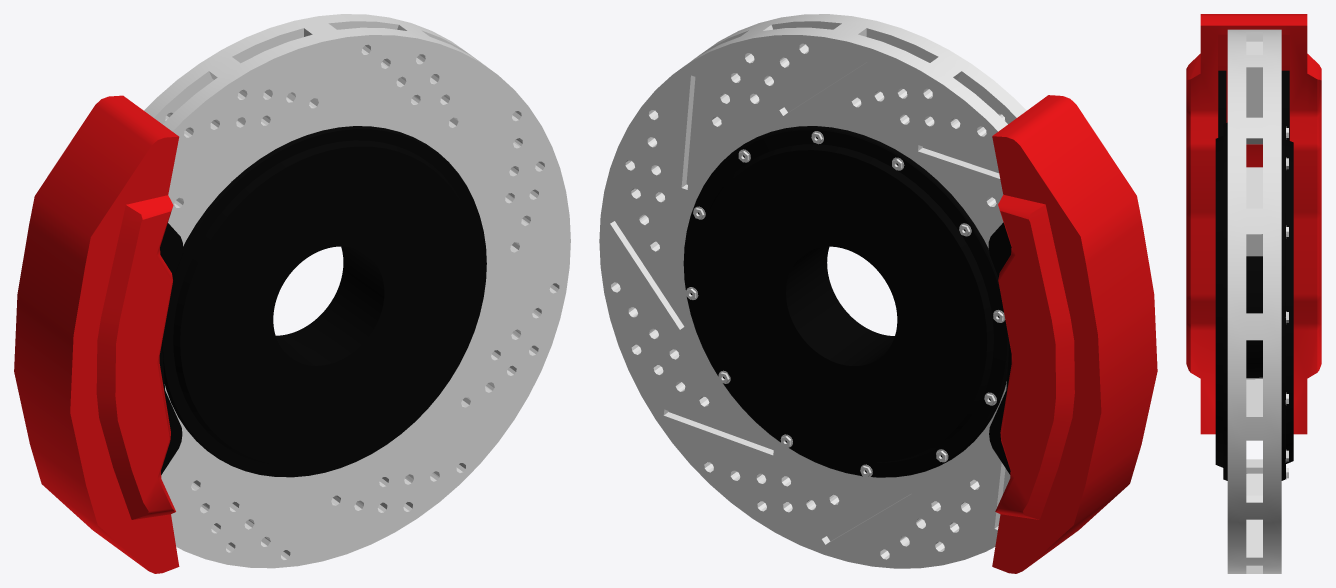
Rendered from BRAKE.glb.
3 views of the same model, side by side, from view 1: azimuth 30°, elevation 25°; view 2: azimuth 150°, elevation 25°; view 3: azimuth 270°, elevation 25° (orthographic). The views are drawn at different scales.
Visible parts, largest first — view 1: brake, Plane, Plane.002; view 2: brake, Plane, Plane.001; view 3: brake, Plane, Plane.002, Plane.001.
Boxes of the visible parts, <box> form: brake: <box>144,14,570,568</box>; Plane: <box>14,95,179,573</box>; Plane.002: <box>159,223,182,475</box>; brake: <box>599,14,1026,568</box>; Plane: <box>992,95,1157,573</box>; Plane.001: <box>988,222,1011,474</box>; brake: <box>1215,29,1293,573</box>; Plane: <box>1186,14,1321,434</box>; Plane.002: <box>1218,70,1226,137</box>; Plane.001: <box>1281,70,1289,140</box>.
Bounding box in the file's own units: 4.23 × 4.08 × 1.01.
